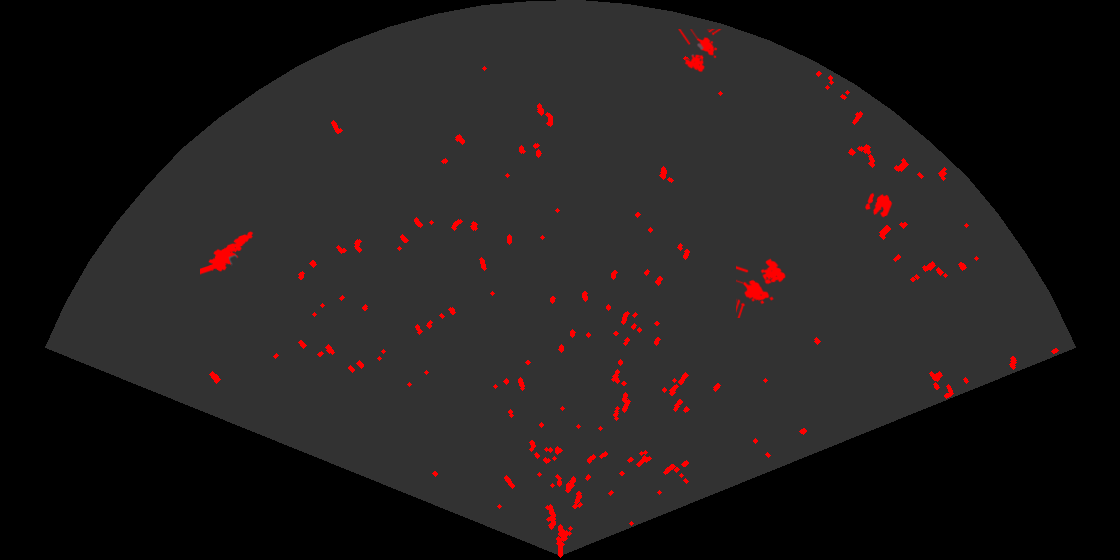ball: (863, 191, 894, 219)
cage: (736, 257, 787, 318), (677, 29, 723, 74)
frogman: (200, 230, 255, 276)
